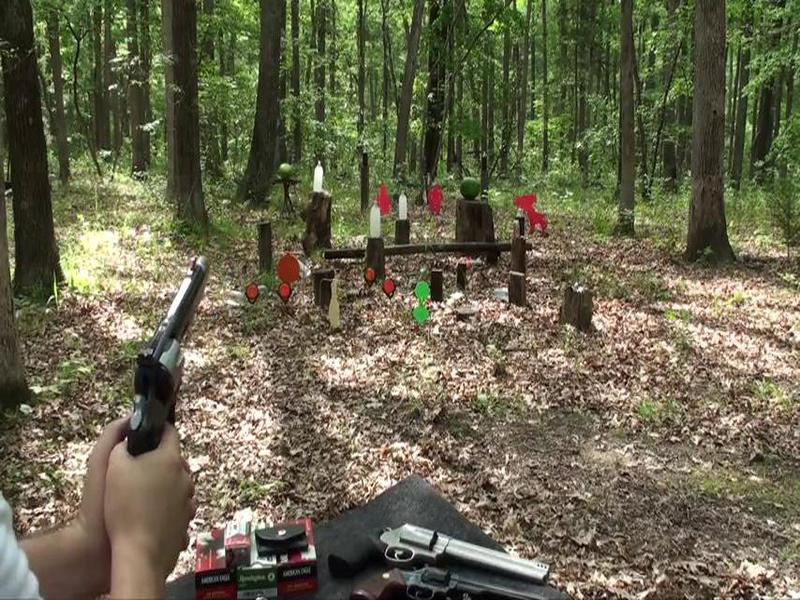Revolver: (102, 232, 248, 467)
